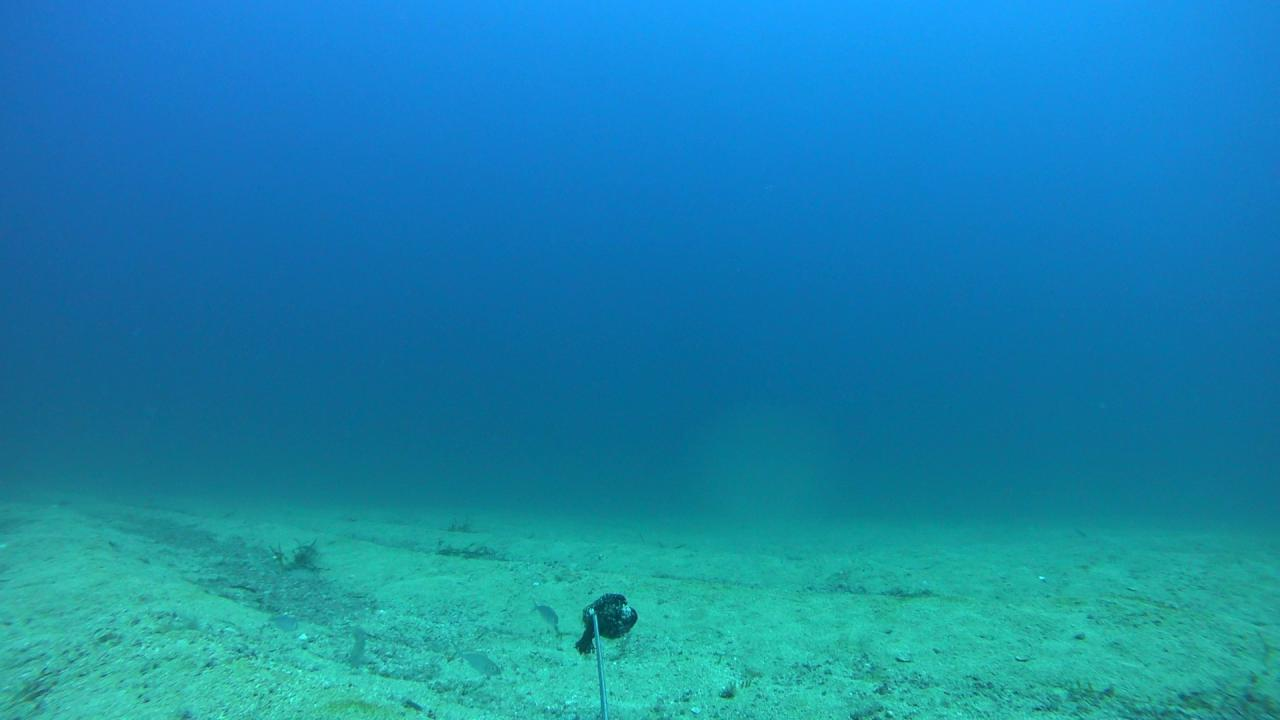pagellus: (447, 645, 502, 676), (267, 616, 299, 634), (536, 603, 558, 629)
